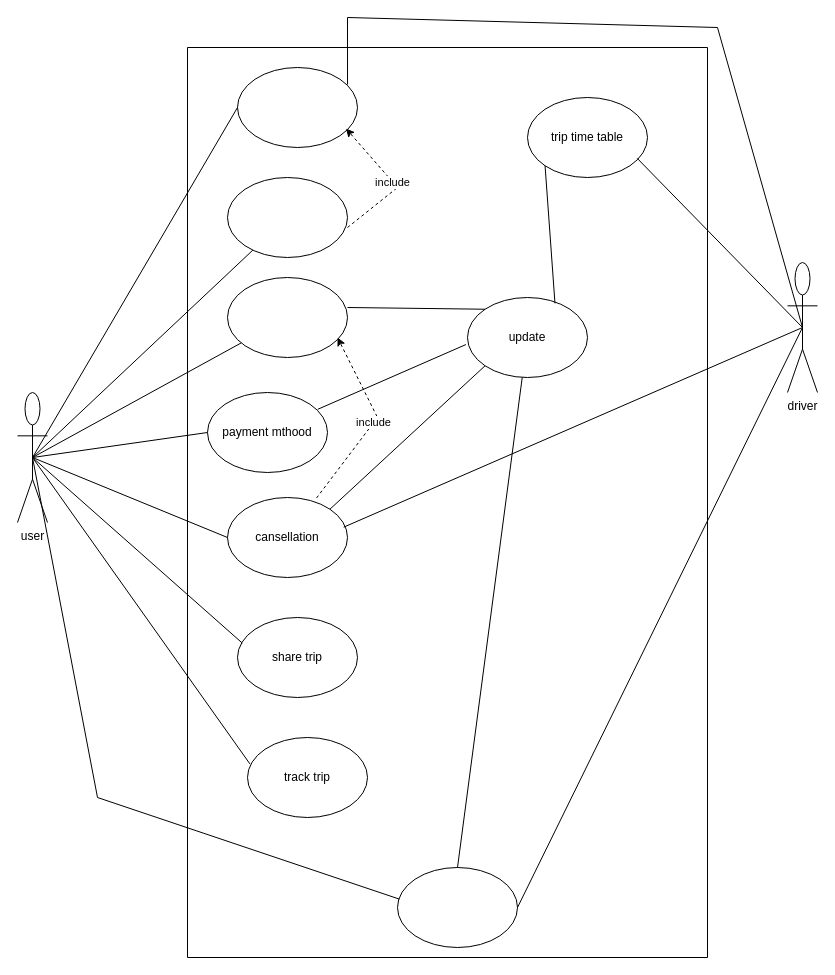
This 835x975 diagram has some shape labels left out. The centre of each missing label's shape, as x and y in pixels:
"login" goes at [297,107].
"rate driver" goes at [457,907].
"ride requset" goes at [287,217].
"select driver" goes at [287,317].
